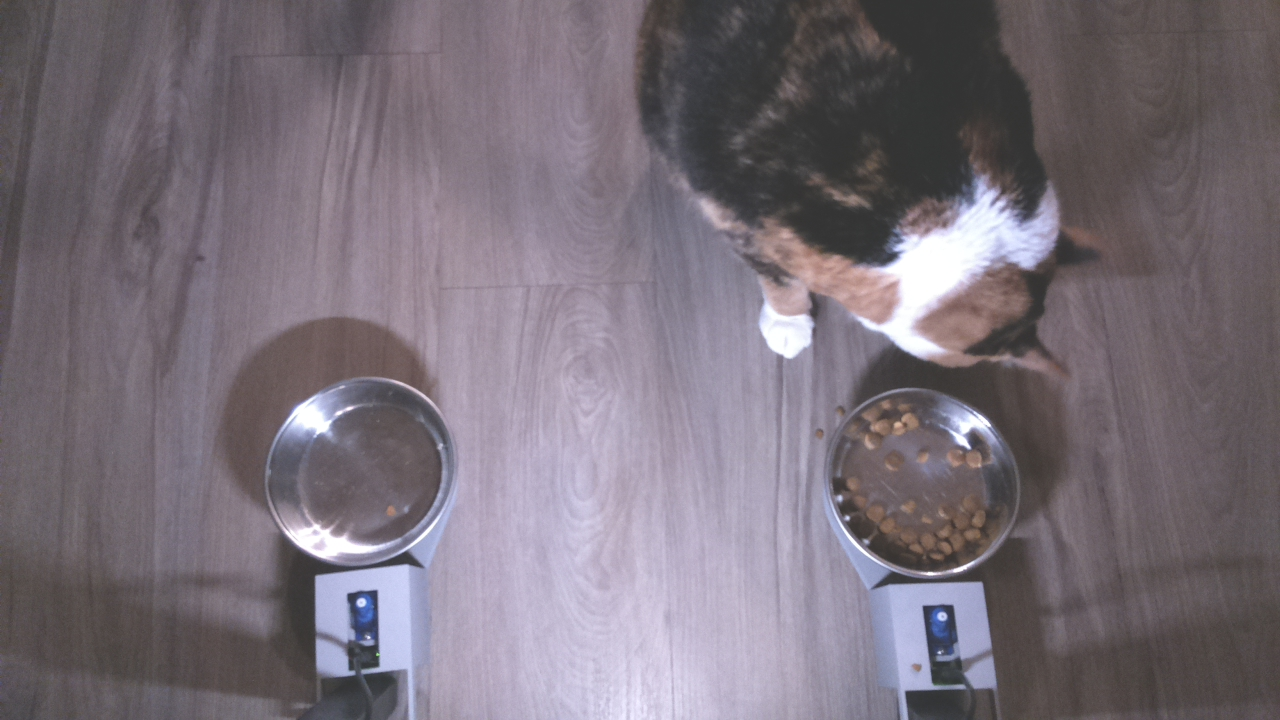bella: (842, 132, 1114, 391)
open_bowl: (822, 377, 1027, 593), (257, 370, 459, 576)
